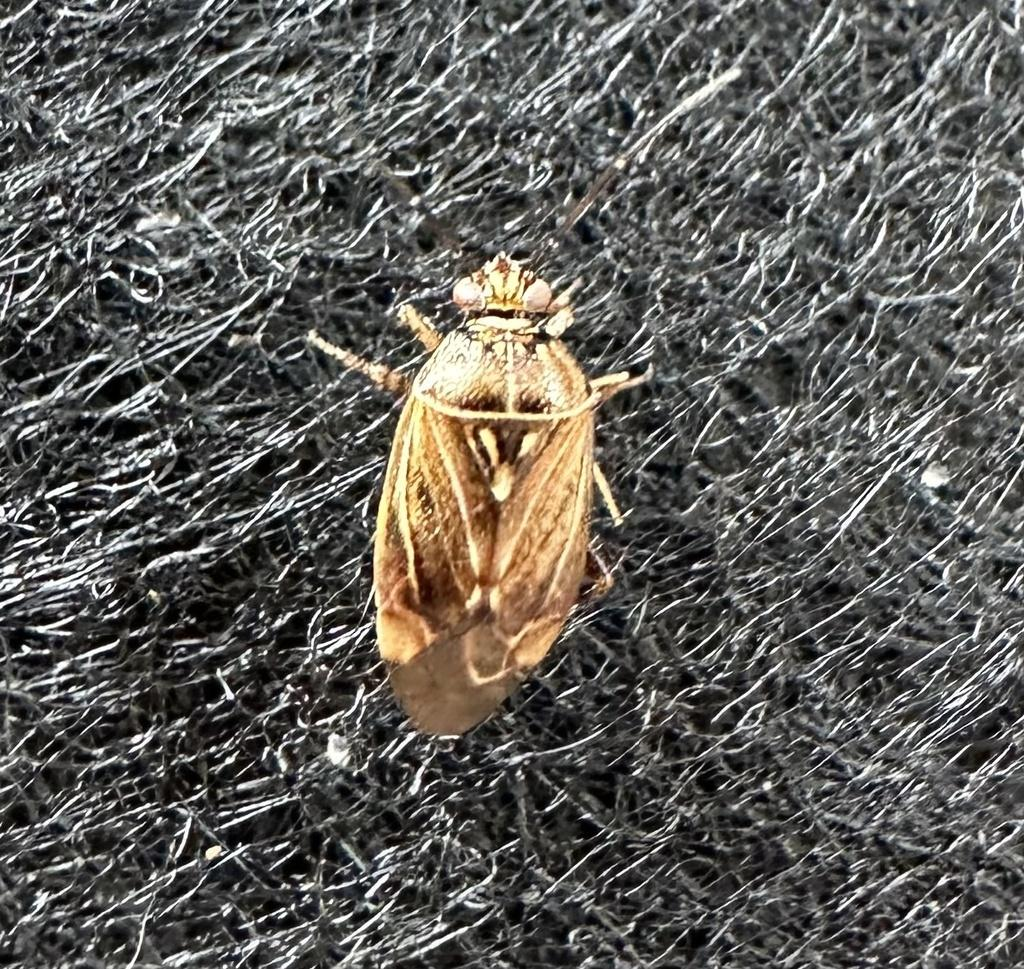plant_bugs: (250, 174, 790, 859)
